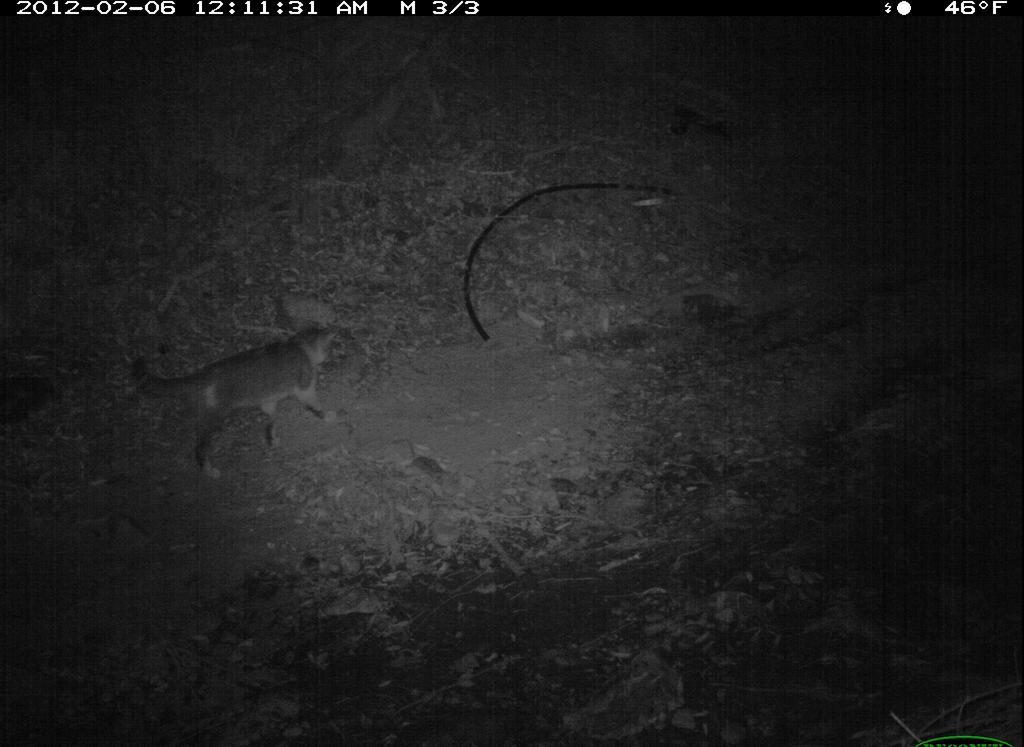cat: (118, 303, 385, 498)
